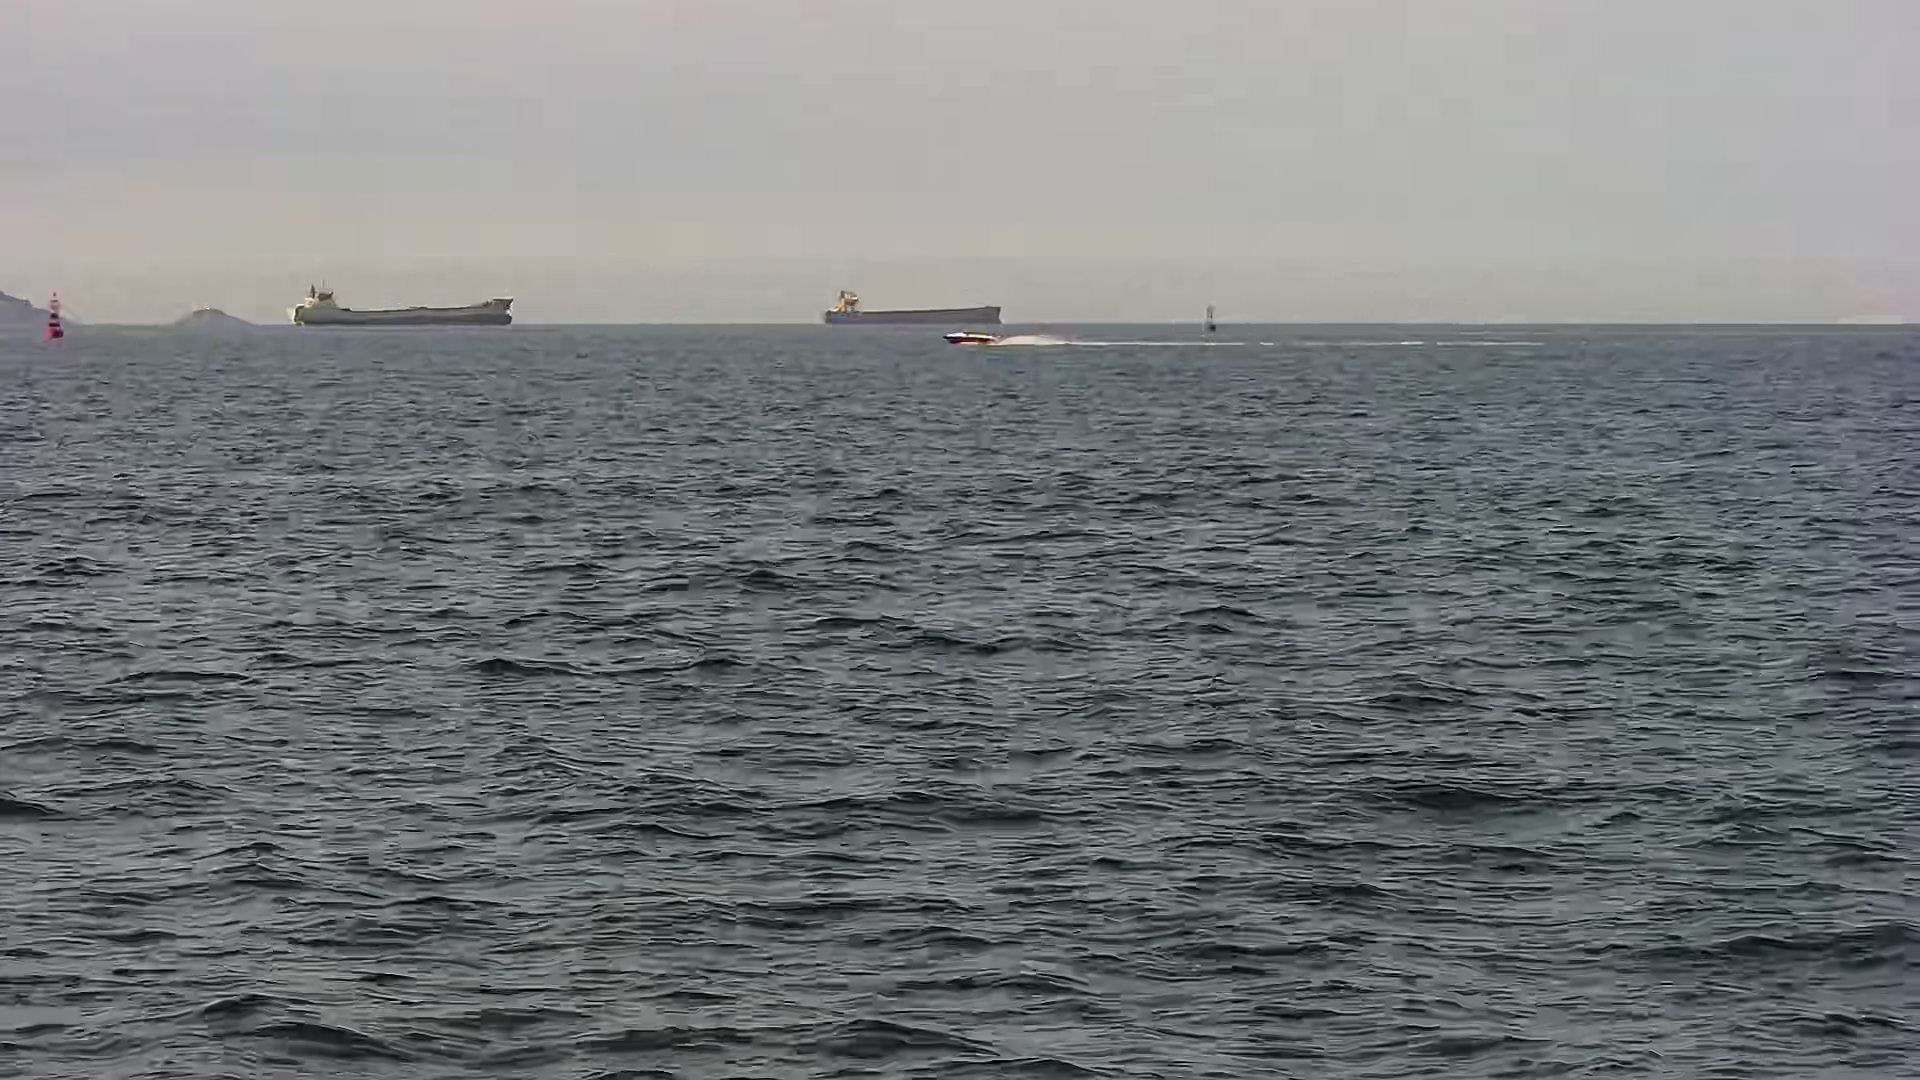boat: (942, 326, 1000, 347)
ship: (287, 273, 526, 335), (824, 281, 1006, 328)
